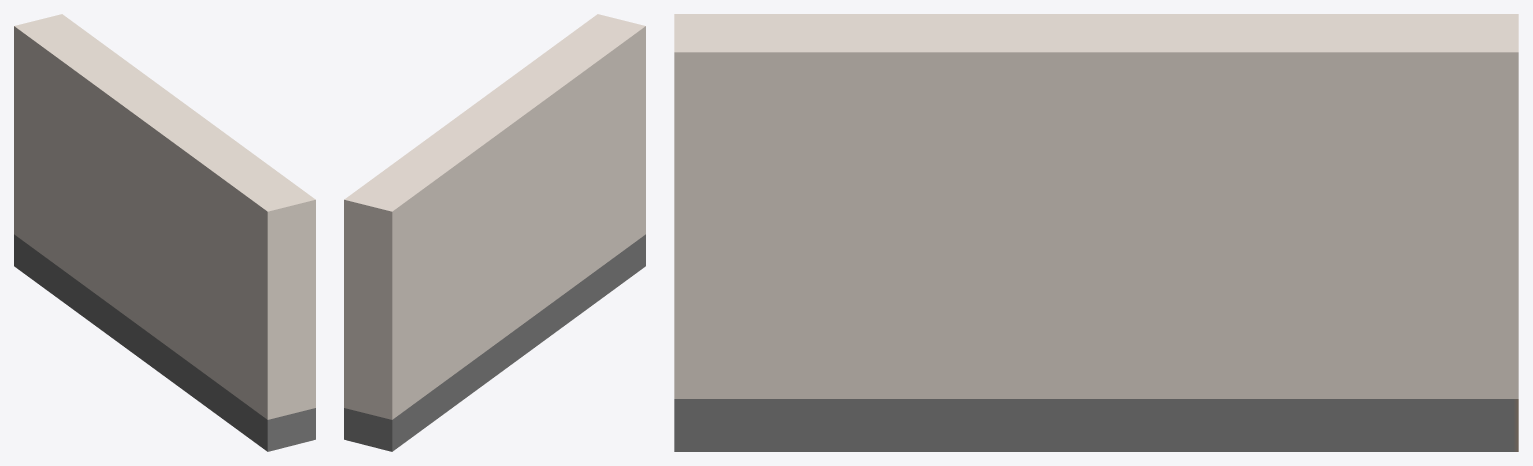
Rendered from Wall_02.fbx.
3 renders of one model, left to right at view 1: azimuth 30°, elevation 25°; view 2: azimuth 150°, elevation 25°; view 3: azimuth 270°, elevation 25°, orthographic. The views are drawn at different scales.
Visible parts, largest first — view 1: Wall_fence_Side; view 2: Wall_fence_Side; view 3: Wall_fence_Side.
Boxes of the visible parts, left/top/right/bottom form: Wall_fence_Side: left=14, top=14, right=315, bottom=451; Wall_fence_Side: left=344, top=14, right=645, bottom=451; Wall_fence_Side: left=674, top=14, right=1518, bottom=451.
Bounding box in the file's own units: 2.52 × 12.04 × 23.
1 material, 1 textured.
